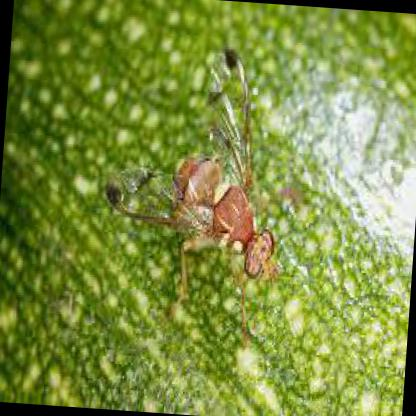fruit fly: (104, 46, 282, 341)
